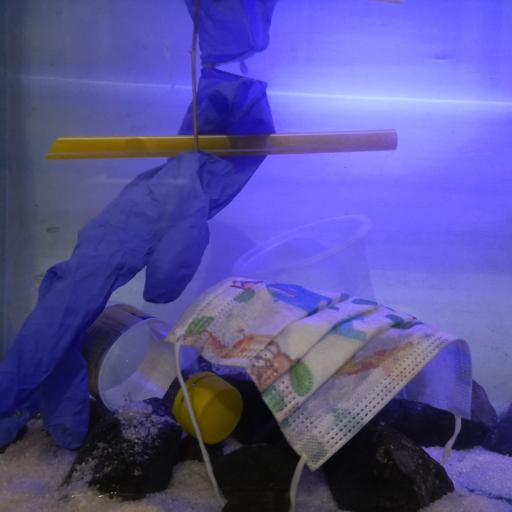bottle_cap: (180, 376, 244, 446)
glove: (0, 66, 277, 449)
mask: (168, 280, 473, 473)
plastic_bottle: (81, 298, 243, 445)
plastic_cup: (231, 212, 376, 305)
plastic_straw: (47, 131, 401, 157)
